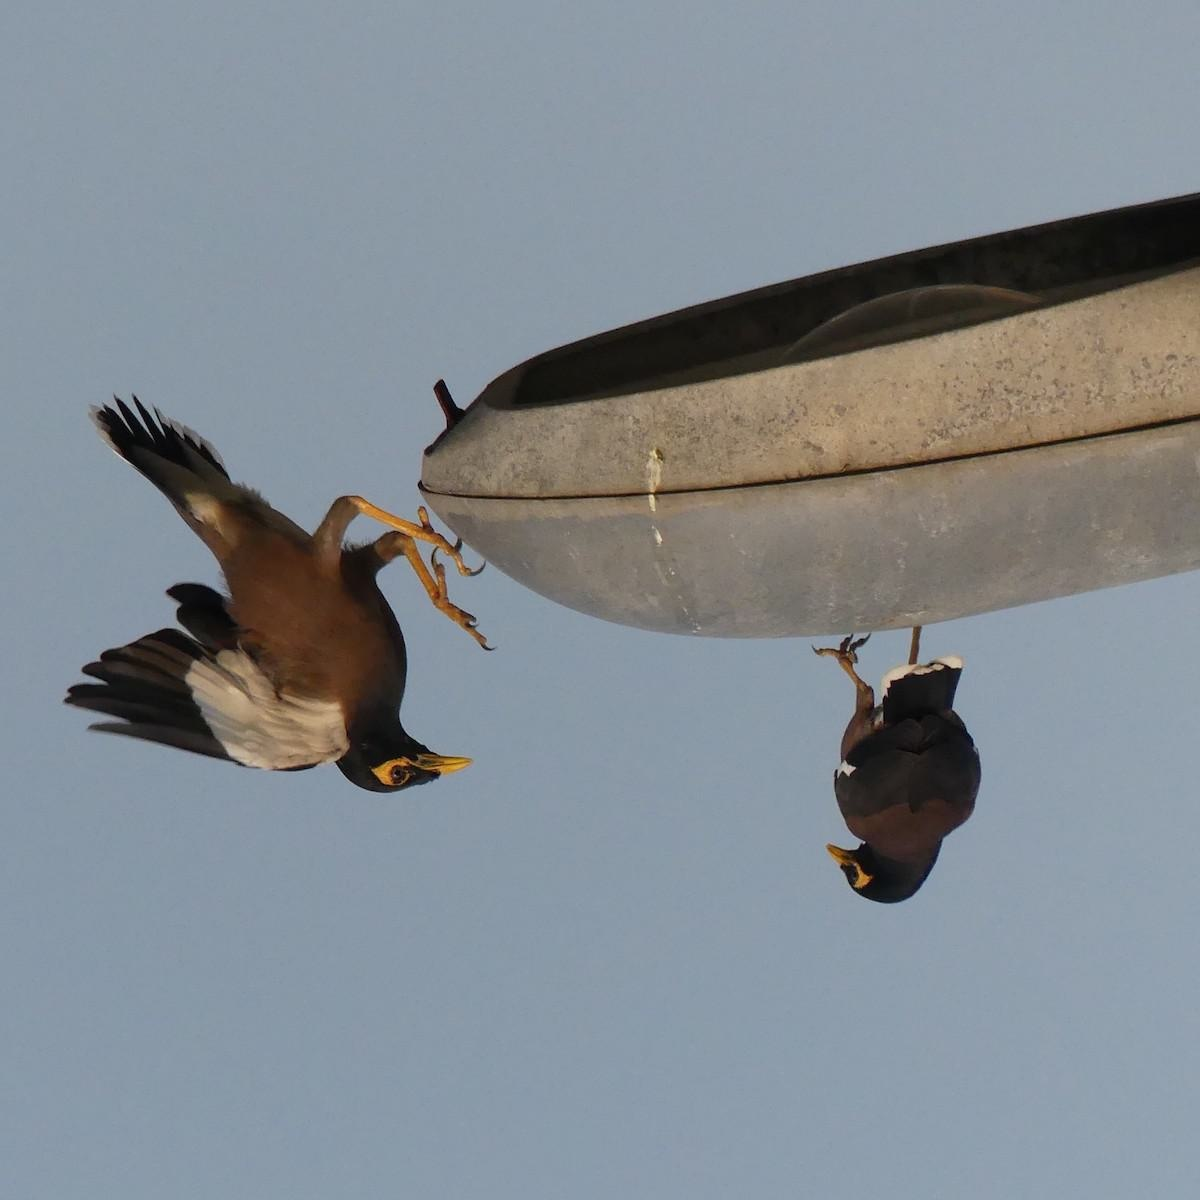myna: (75, 385, 535, 859), (767, 662, 1016, 940)
